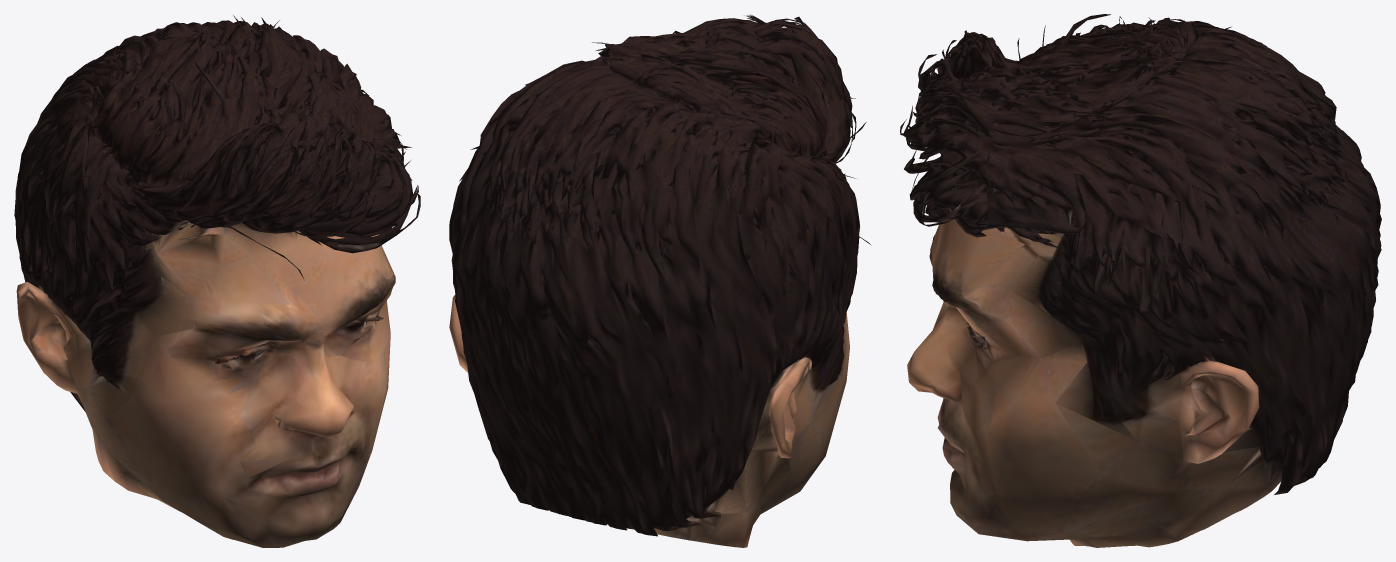
The model's file is head_kanishka.glb.
3 renders of one model, left to right at view 1: azimuth 30°, elevation 25°; view 2: azimuth 150°, elevation 25°; view 3: azimuth 270°, elevation 25°, orthographic. The views are drawn at different scales.
Visible parts, largest first — view 1: Mesh_0; view 2: Mesh_0; view 3: Mesh_0.
Boxes of the visible parts, x1=… form: Mesh_0: x1=14, y1=15, x2=420, y2=547; Mesh_0: x1=449, y1=14, x2=871, y2=547; Mesh_0: x1=900, y1=14, x2=1381, y2=547.
Size of the model in its own units: 0.8732 by 1.13 by 0.9736.
1 material, 1 textured.
